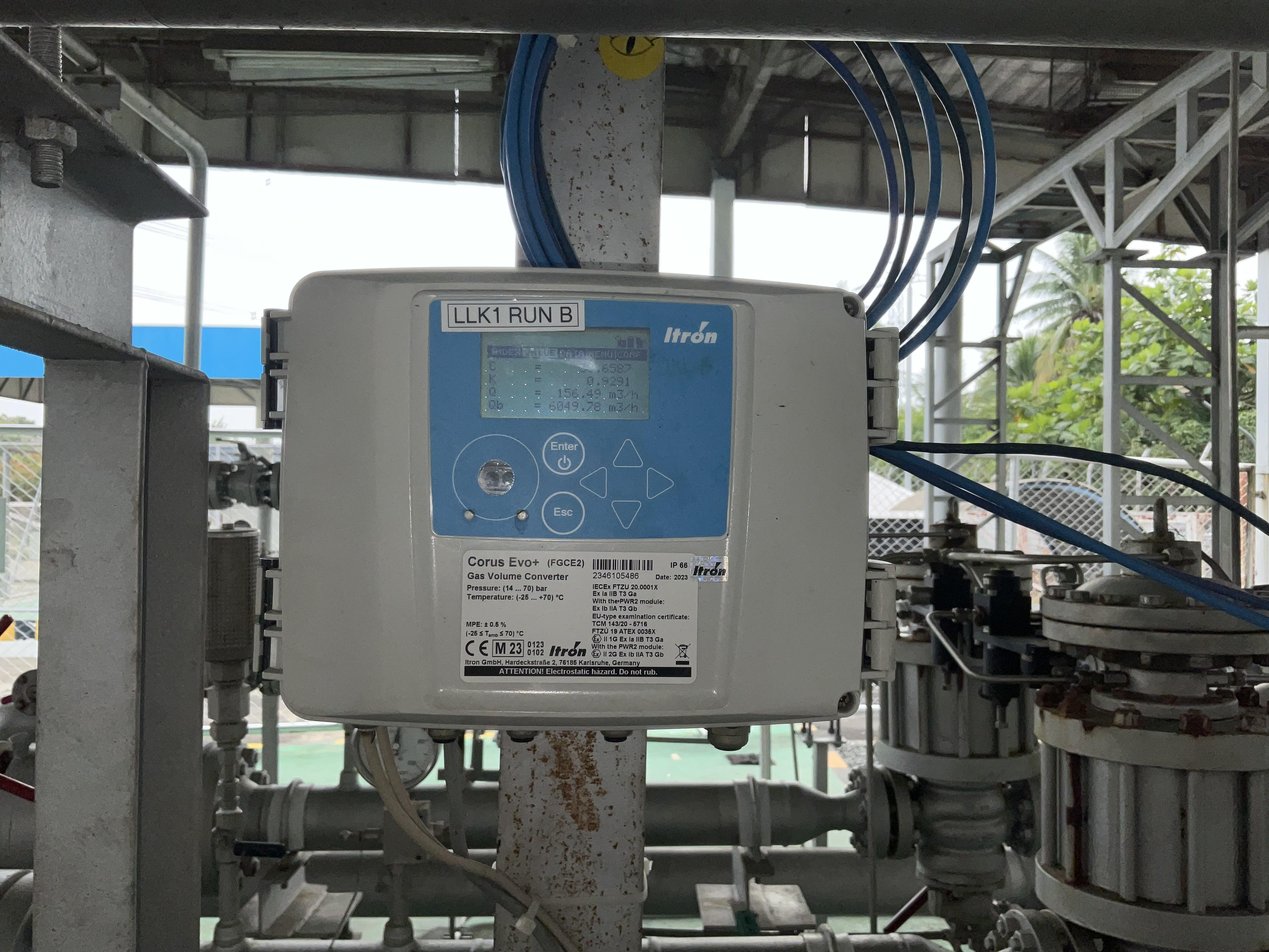digital_screen: (479, 326, 651, 420)
